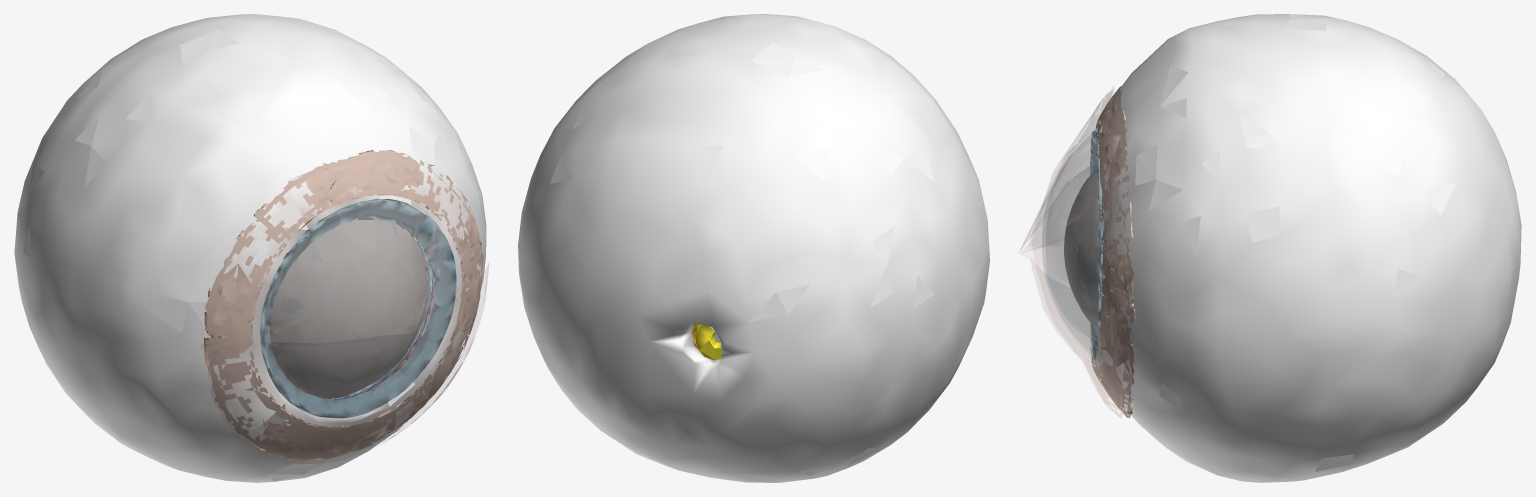
File: 3d-vh-f-eye-l-20.glb
3 renders of one model, left to right at view 1: azimuth 30°, elevation 25°; view 2: azimuth 150°, elevation 25°; view 3: azimuth 270°, elevation 25°, orthographic.
Visible parts, largest first — view 1: VH_F_sclera_L, VH_F_palpebral_conjunctiva_of_left_upper_eyelid, VH_F_cornea_L, VH_F_palpebral_conjunctiva_of_left_lower_eyelid, VH_F_bulbar_conjunctiva_L, VH_F_aqueous_humor_L, VH_F_corneo_scleral_junction_L, VH_F_trabecular_meshwork_L; view 2: VH_F_sclera_L, VH_F_optic_disc_L; view 3: VH_F_sclera_L, VH_F_palpebral_conjunctiva_of_left_upper_eyelid, VH_F_cornea_L, VH_F_bulbar_conjunctiva_L, VH_F_palpebral_conjunctiva_of_left_lower_eyelid, VH_F_aqueous_humor_L, VH_F_corneo_scleral_junction_L.
Part boxes in pixels (bbox=[...]): VH_F_sclera_L: bbox=[14, 14, 486, 482]; VH_F_palpebral_conjunctiva_of_left_upper_eyelid: bbox=[209, 155, 483, 342]; VH_F_cornea_L: bbox=[261, 200, 456, 418]; VH_F_palpebral_conjunctiva_of_left_lower_eyelid: bbox=[201, 263, 488, 463]; VH_F_bulbar_conjunctiva_L: bbox=[204, 150, 483, 460]; VH_F_aqueous_humor_L: bbox=[270, 219, 428, 398]; VH_F_corneo_scleral_junction_L: bbox=[260, 198, 456, 417]; VH_F_trabecular_meshwork_L: bbox=[325, 237, 433, 399]; VH_F_sclera_L: bbox=[518, 14, 989, 482]; VH_F_optic_disc_L: bbox=[695, 324, 721, 359]; VH_F_sclera_L: bbox=[1093, 14, 1521, 482]; VH_F_palpebral_conjunctiva_of_left_upper_eyelid: bbox=[1019, 87, 1127, 309]; VH_F_cornea_L: bbox=[1042, 133, 1101, 360]; VH_F_bulbar_conjunctiva_L: bbox=[1090, 85, 1135, 418]; VH_F_palpebral_conjunctiva_of_left_lower_eyelid: bbox=[1031, 225, 1123, 418]; VH_F_aqueous_humor_L: bbox=[1064, 169, 1099, 329]; VH_F_corneo_scleral_junction_L: bbox=[1090, 129, 1103, 360].
Size of the model in its own units: 0.0245 by 0.0244 by 0.0263.
